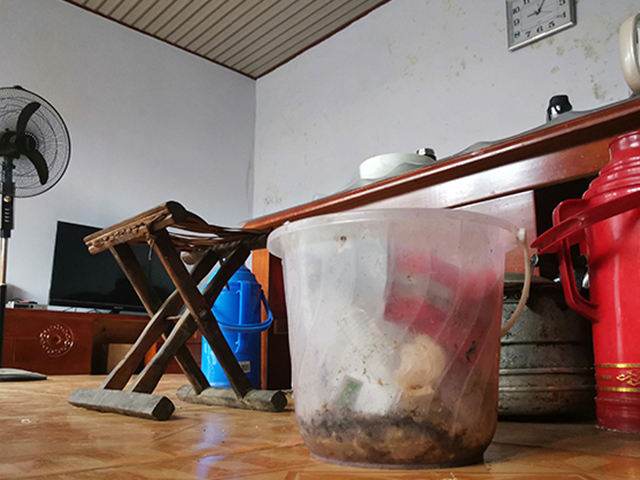cabinet: (3, 307, 203, 379)
stool: (65, 199, 289, 422)
trashcan: (264, 203, 536, 471)
